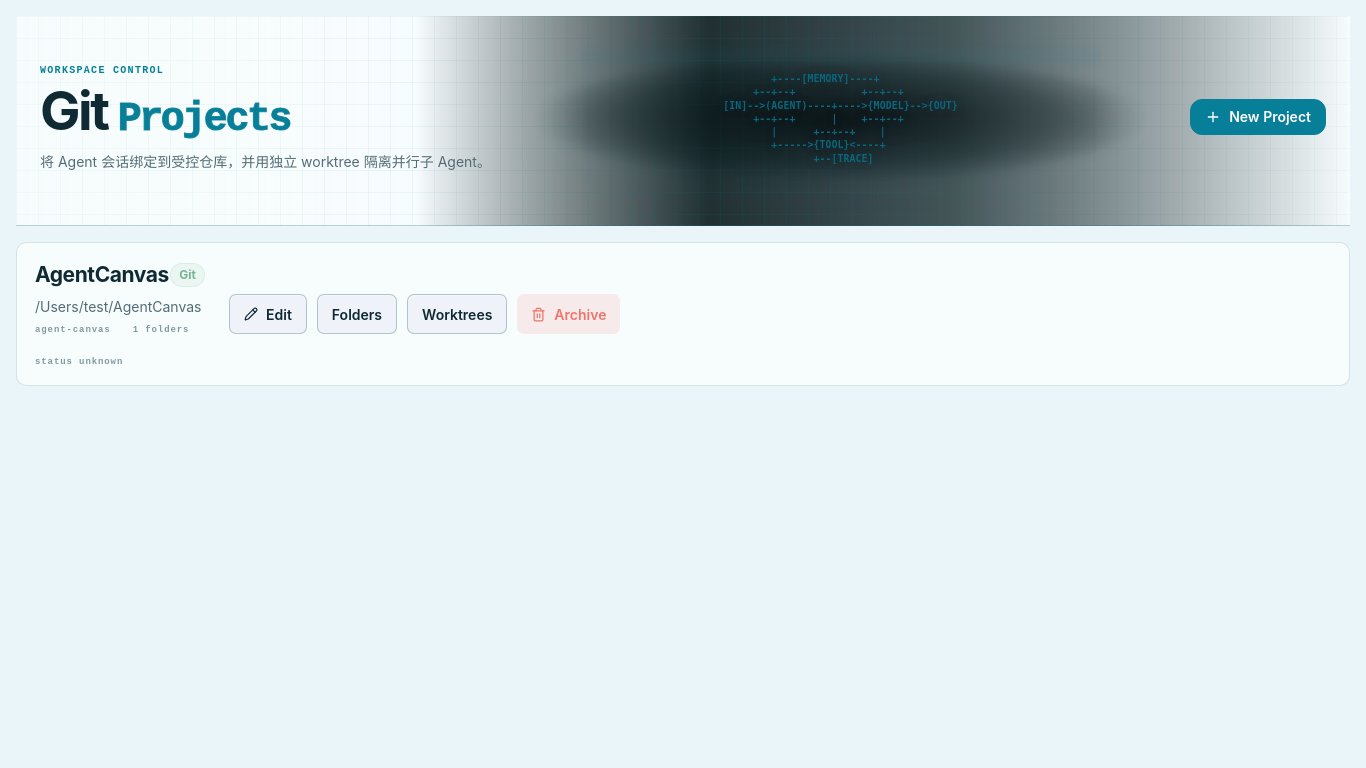
Projects page › loads Git status and worktrees on demand
This screenshot has width=1366, height=768.
Expected: the text "/Users/test/AgentCanvas" is shown, [35,296,205,317]
Click the button "Worktrees" at (457, 314), box [407,294,507,334]
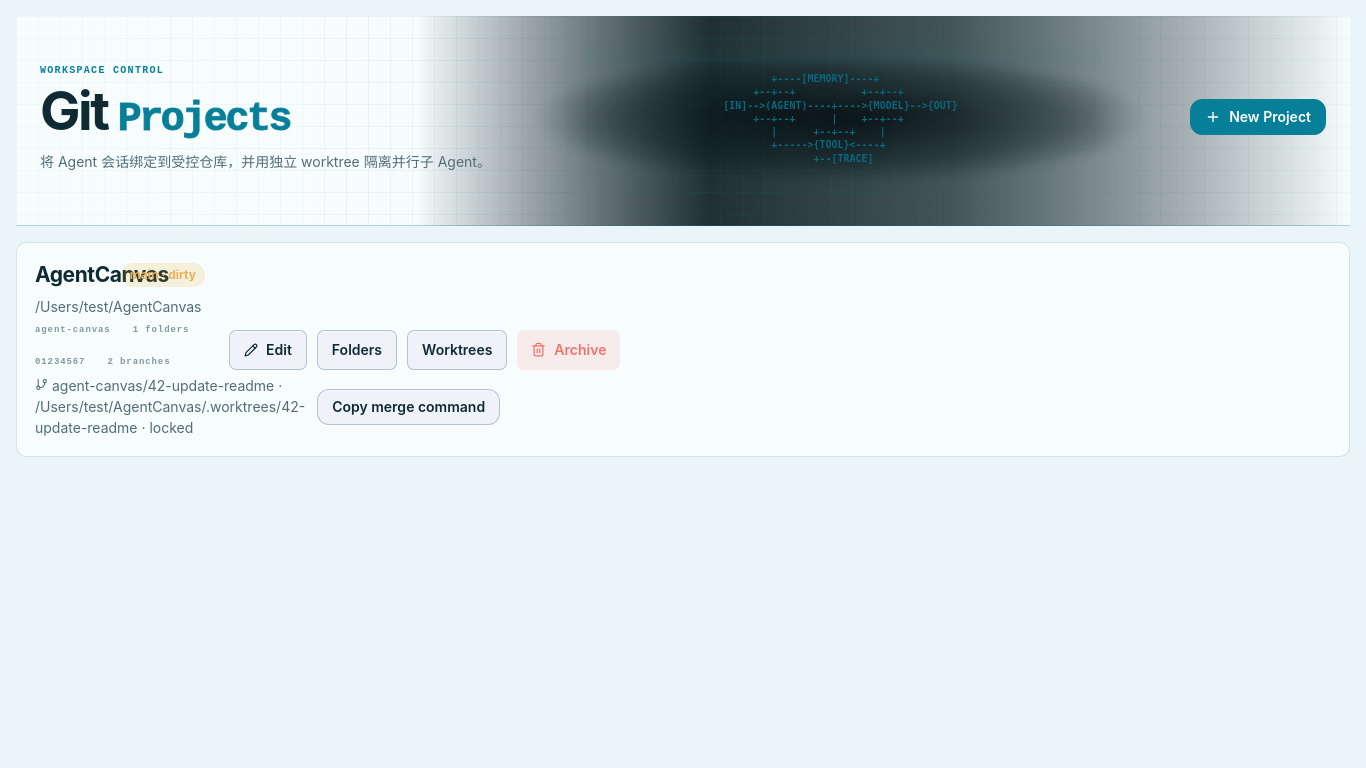
Result: the text "main · dirty" is shown at [121,263,205,287]
Result: the text "01234567" is shown at [35,357,85,367]
Click the button "Copy merge command" at (409, 407), box [317,389,500,425]
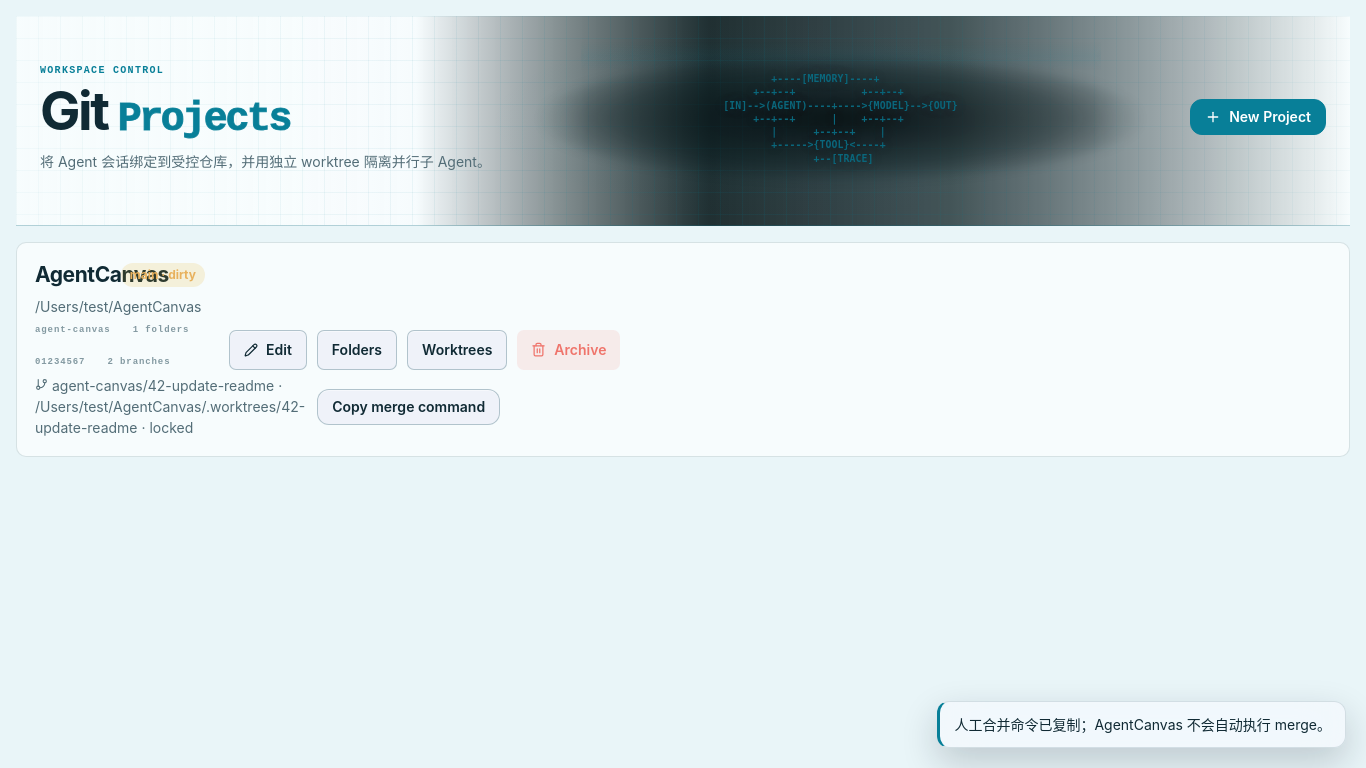
Result: the text "人工合并命令已复制；AgentCanvas 不会自动执行 merge。" is shown at [937,701,1346,748]
